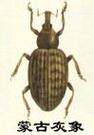Curculionidae: (9, 1, 87, 122)
